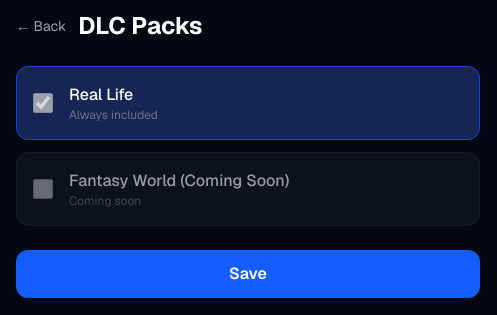
Test: StorePage › POSTs the selection and shows Saved
Expected: the checkbox labelled "Real Life Always included" is checked, [33,93,53,113]
What coordinates should you click on to do the following:
click the button "Save"
I would click on:
 (248, 274)
Its box is [16,250,480,298].
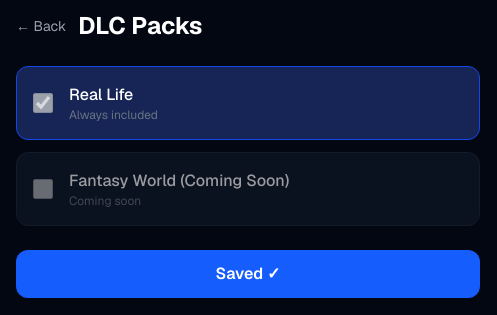
Expected: the button "Saved ✓" is shown, [16,250,480,298]
